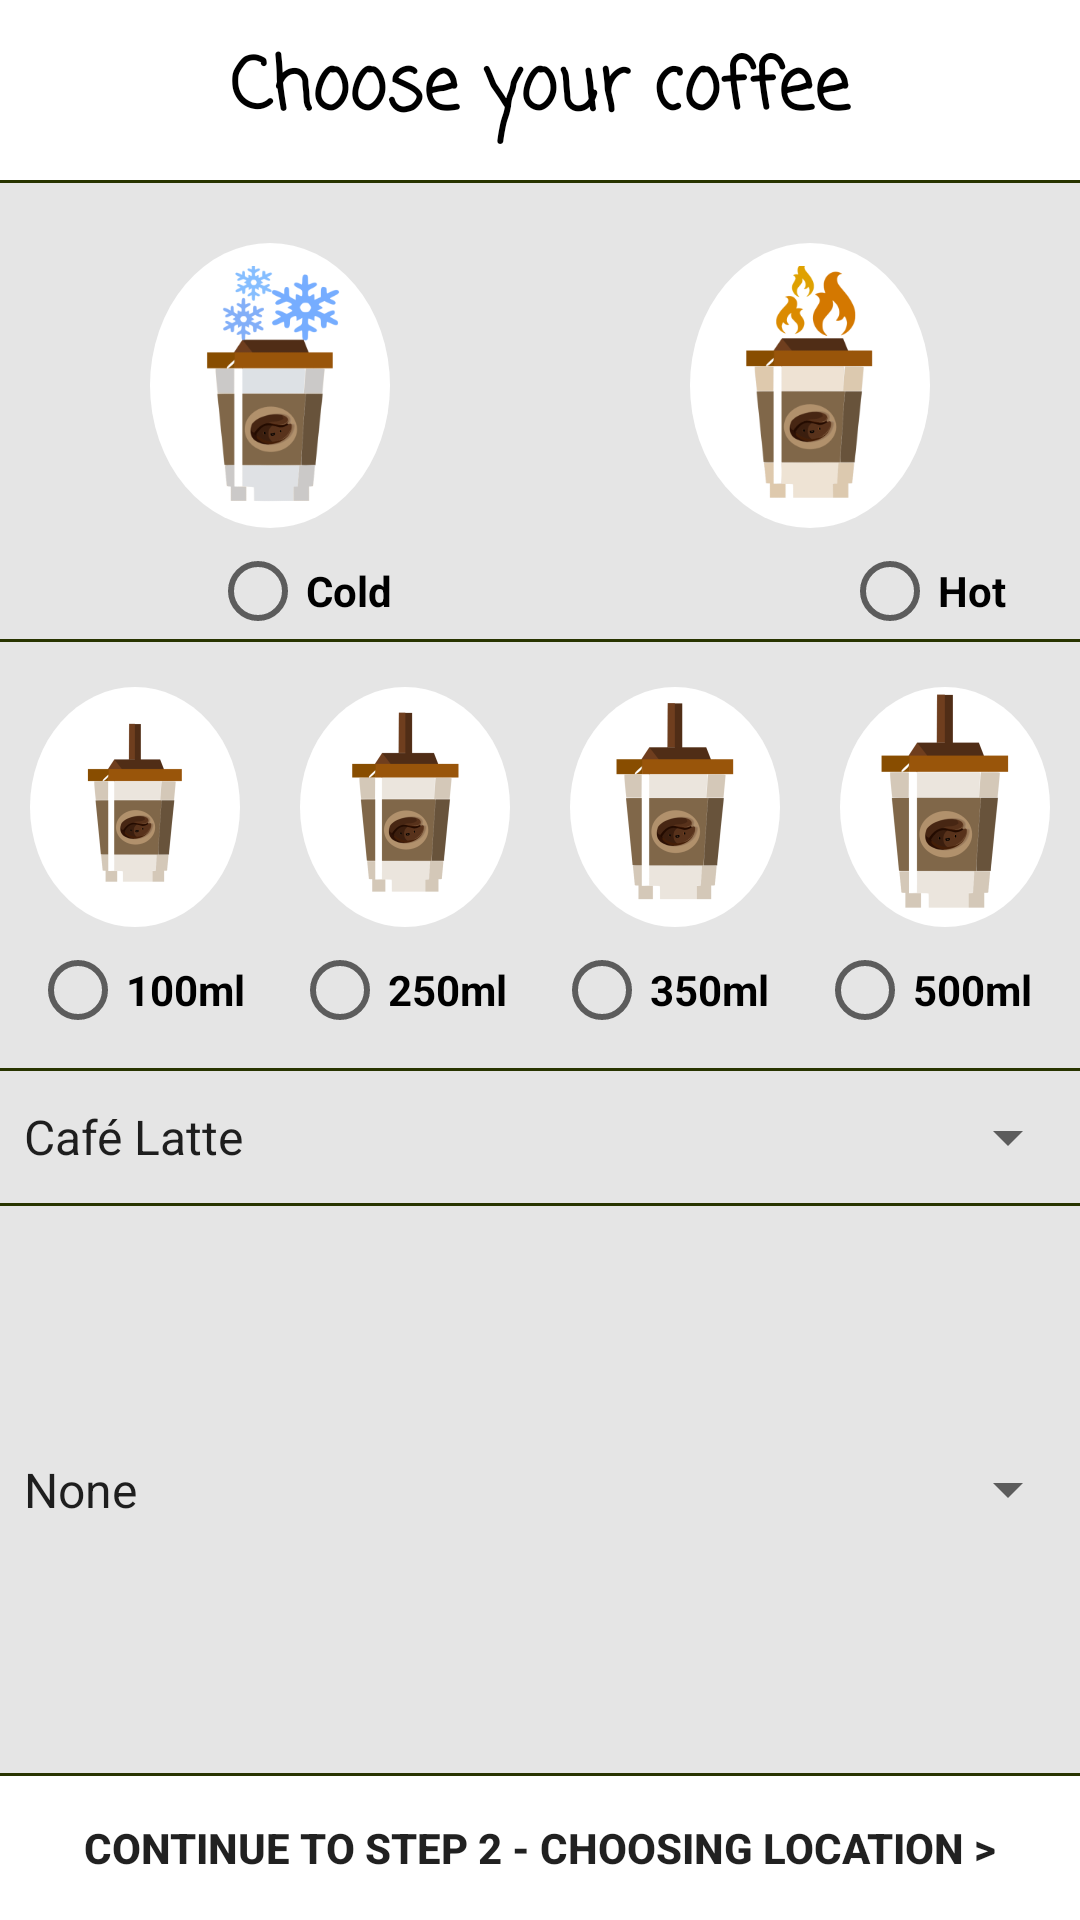

Named icons in this screenshot (1080*1920) and their centers, (x=x, y=y):
hot coffee cup: (x=810, y=385)
